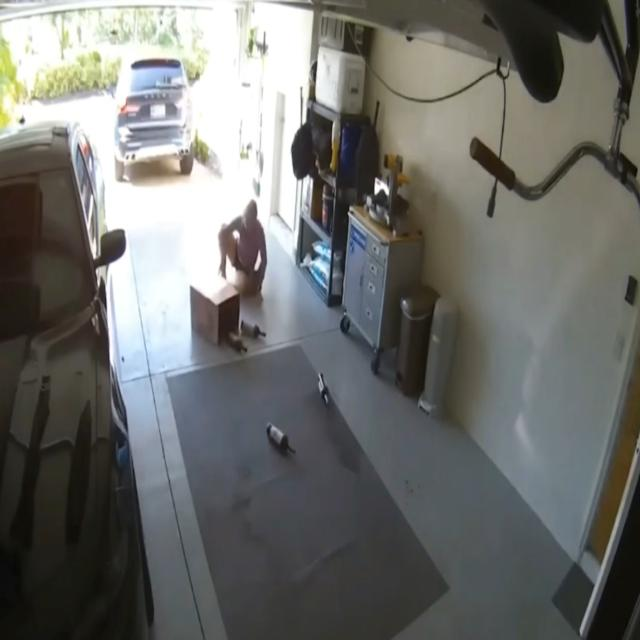fallen: (218, 200, 267, 294)
